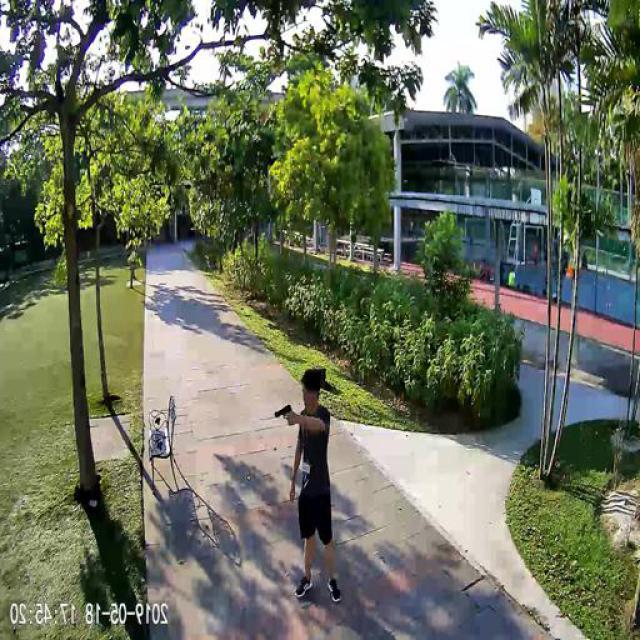Gun: (275, 400, 295, 420)
